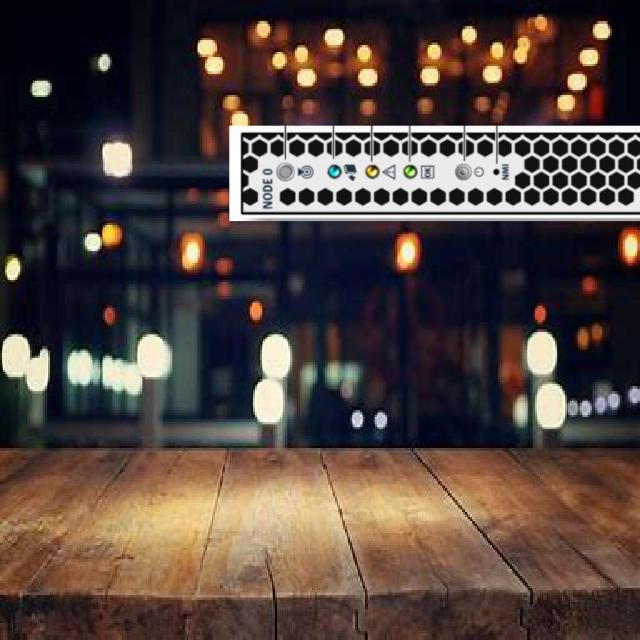Server: (228, 126, 640, 220)
